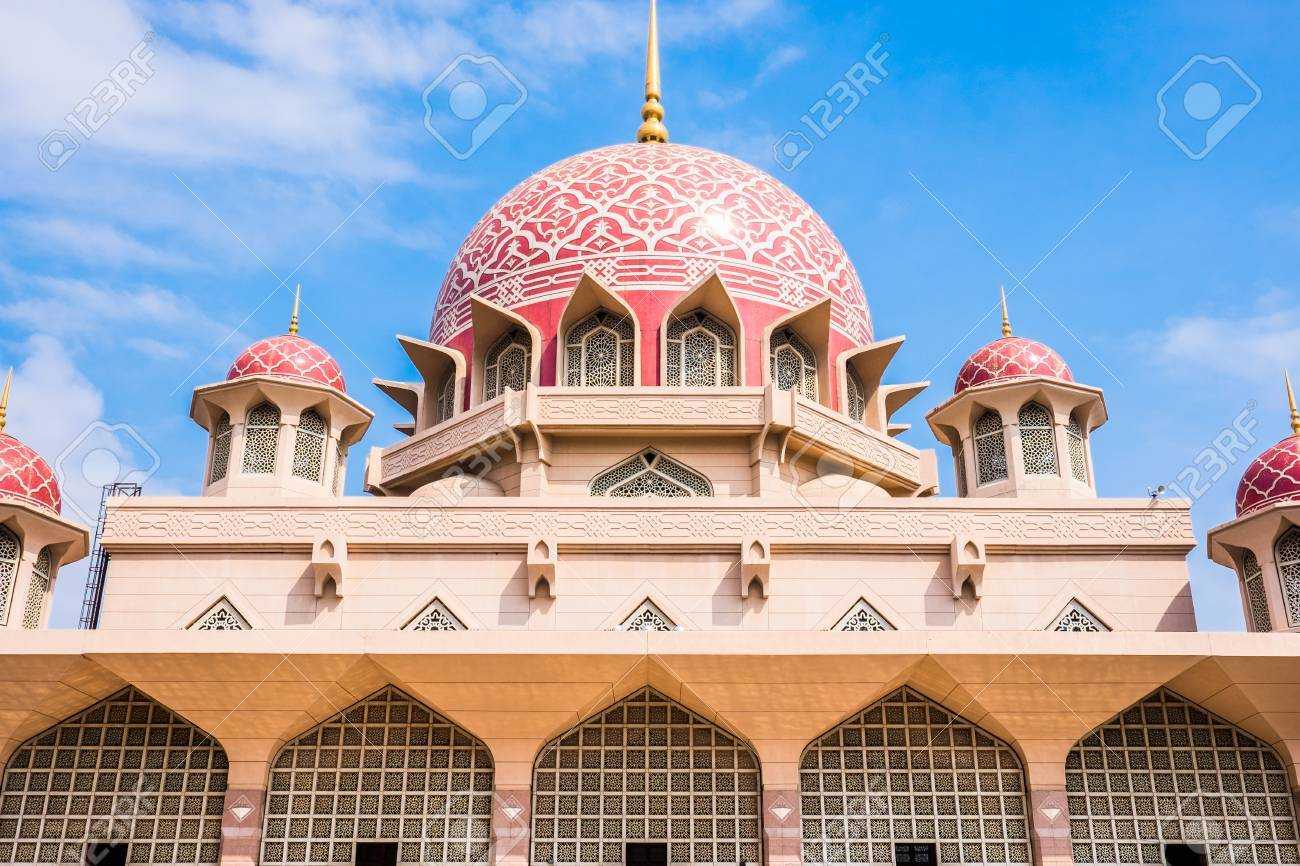Mosque: (161, 19, 1106, 687)
